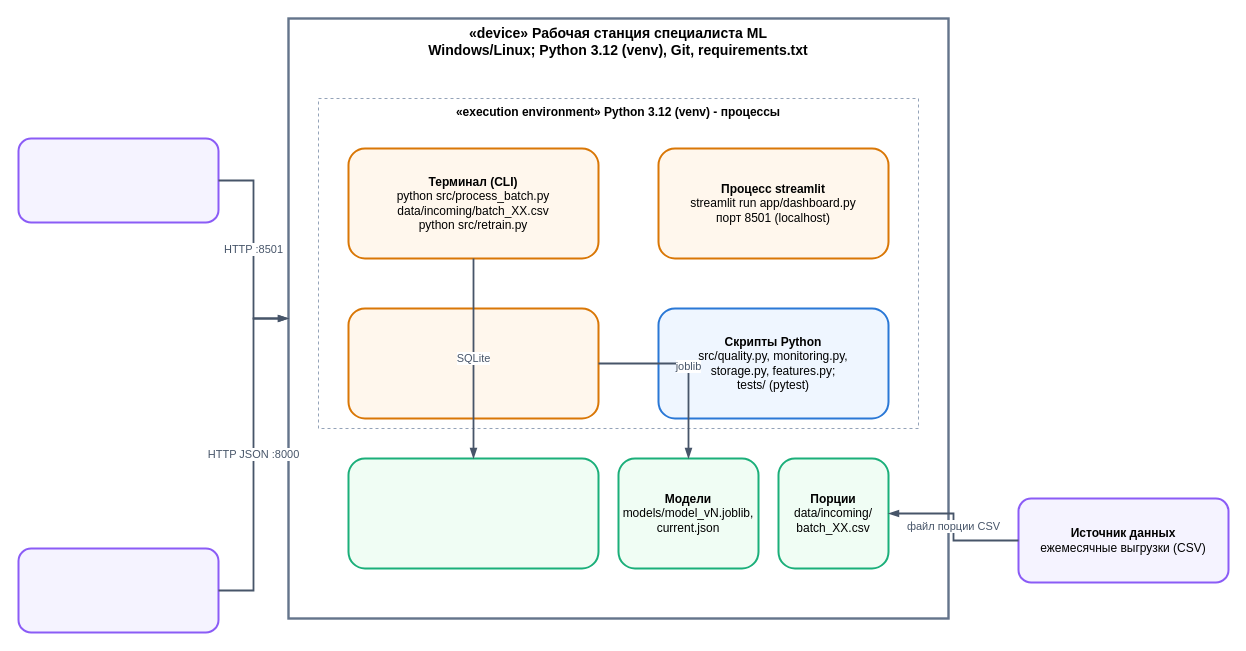
The diagram is 1246 pixels wide and 651 high, and some of its shapes have lost their labels. Each missing label, with the box of its shape:
Браузер риск-аналитика HTTP localhost:8501: (17, 137, 219, 223)
Внешняя система кампаний HTTP JSON :8000: (17, 547, 219, 633)
Процесс uvicorn uvicorn app.api:app порт 8000 (localhost): (347, 307, 599, 419)
Хранилище data/credit_system.db (SQLite, WAL): (347, 457, 599, 569)
